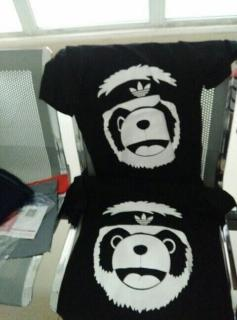short sleeve top: (39, 39, 237, 184), (56, 175, 236, 319)
